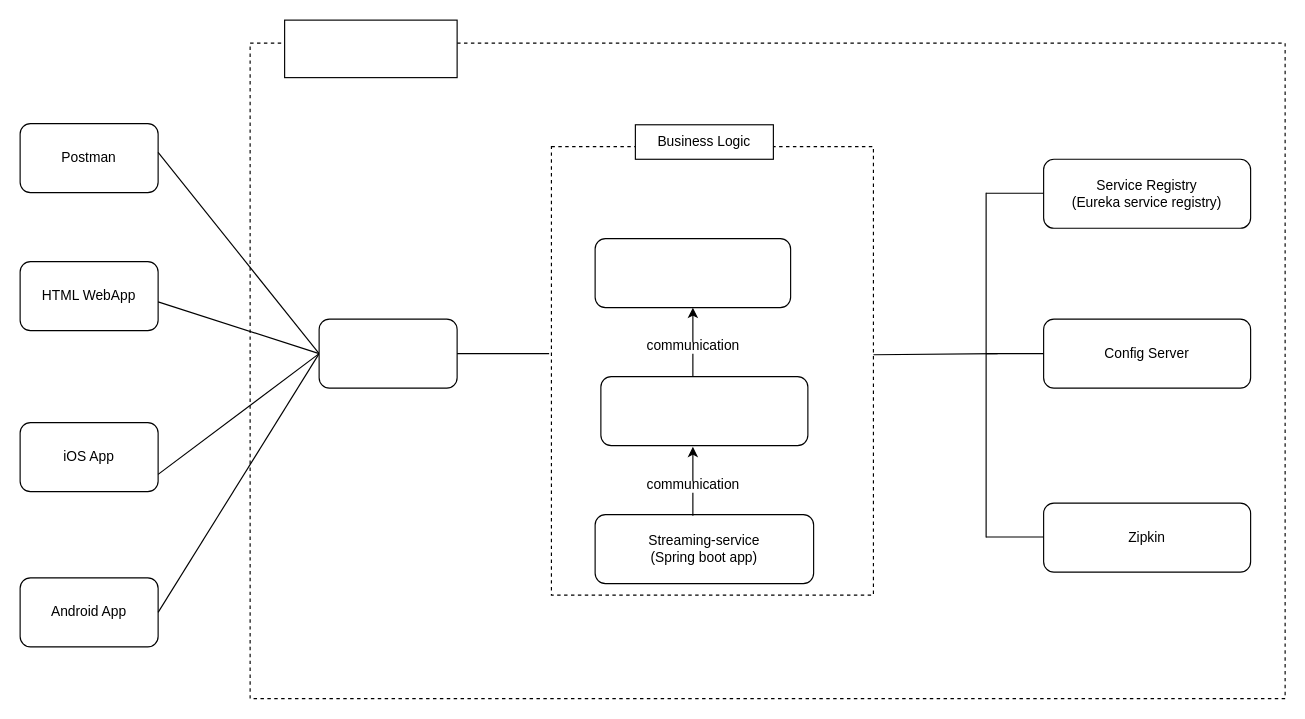
The diagram is 1305 pixels wide and 719 high, and some of its shapes have lost their labels. Each missing label, with the centre of its shape:
API Gateway (spring cloud routing): [387,353]
Movie-Catalogue-Ext-Service (Spring boot app): [692,272]
Movie-Catalogue-Int-Service (Spring boot app): [704,410]
Sever Logic: [370,48]
